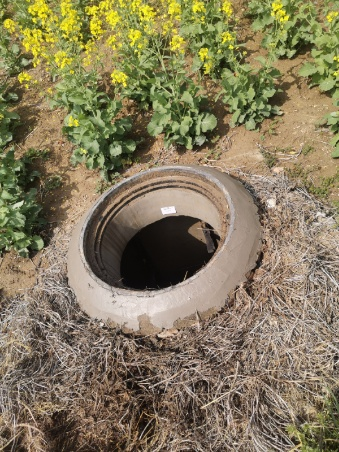well: (78, 165, 238, 295)
